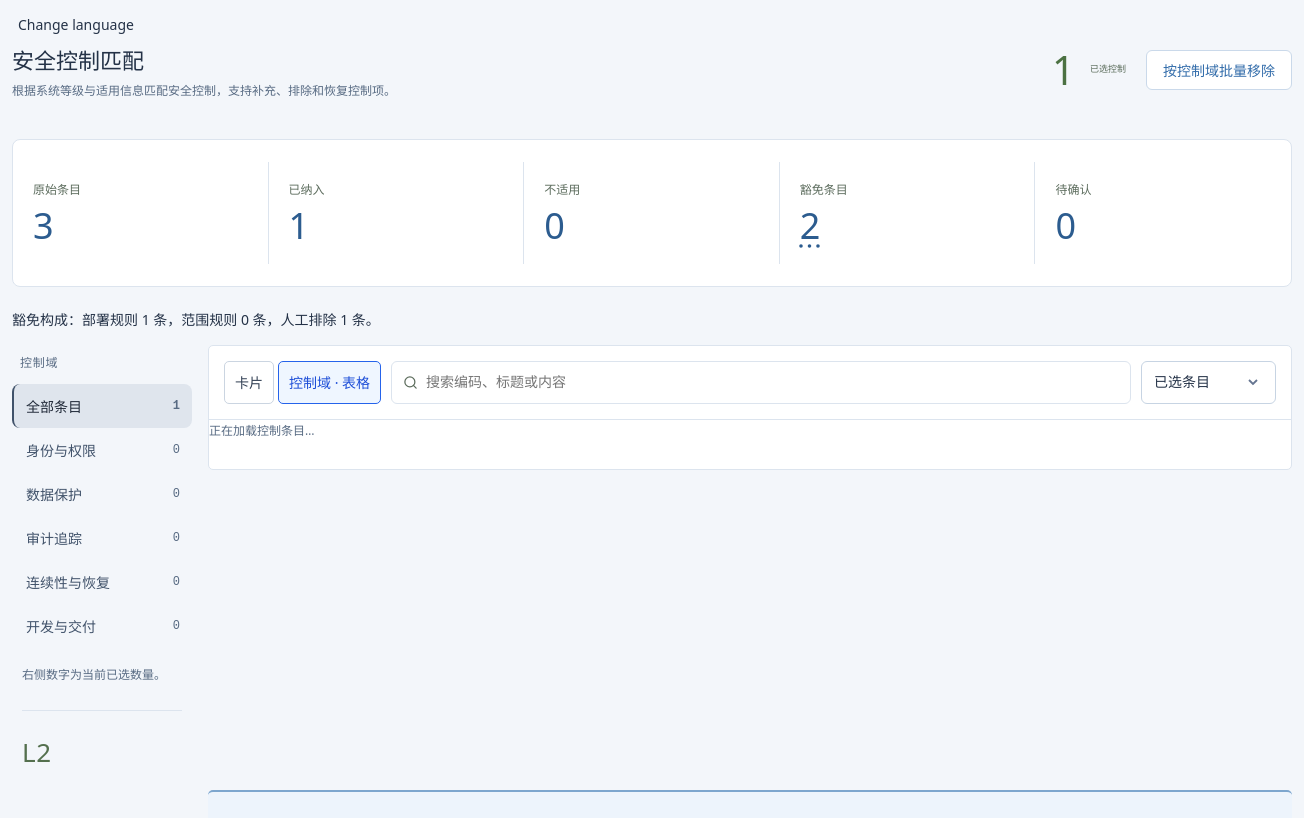
it: keeps the exclusion and authored reason when restoring fails
What coordinates should you click on to do the following:
click the button named "豁免原因（2条）"
I would click on:
 (810, 226)
Its box is [800,205,820,246].
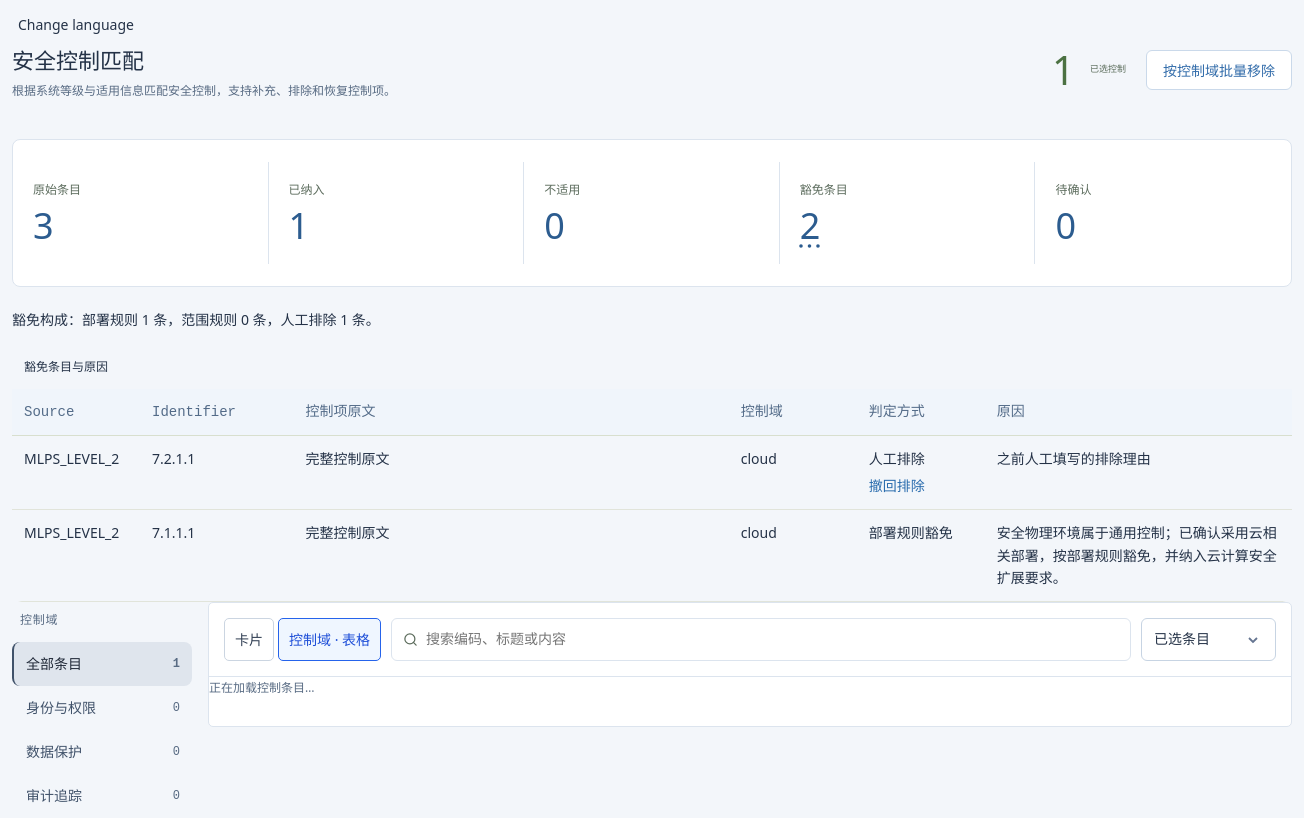
What coordinates should you click on to do the following:
click the button with aria-label "撤回排除 7.2.1.1"
I would click on:
 (897, 486)
Its box is [869,475,925,497].
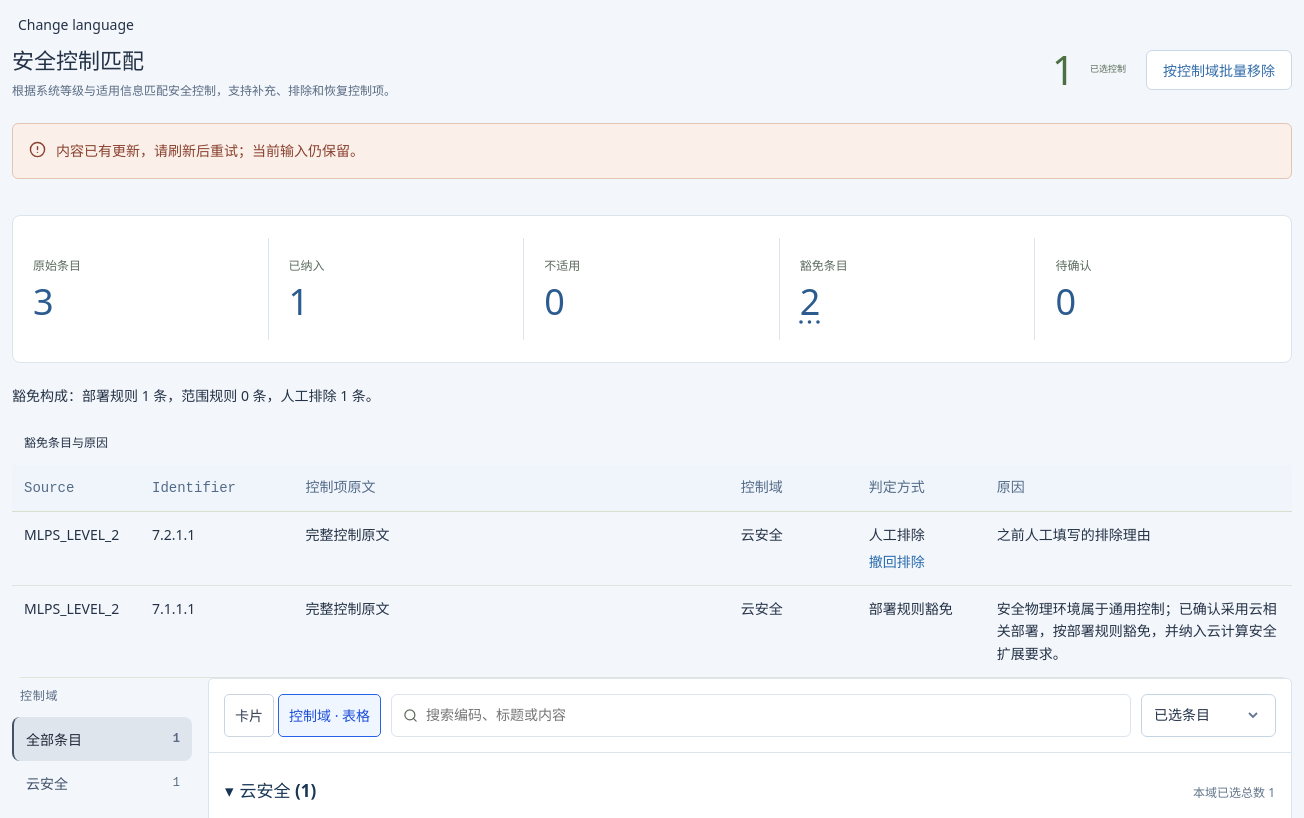
expect the text "之前人工填写的排除理由" is shown: met, box [985,512,1292,586]
expect the button with aria-label "撤回排除 7.2.1.1" is enabled: met, box [869,551,925,573]
expect the message shows "内容已有更新": met, box [56,141,364,160]
